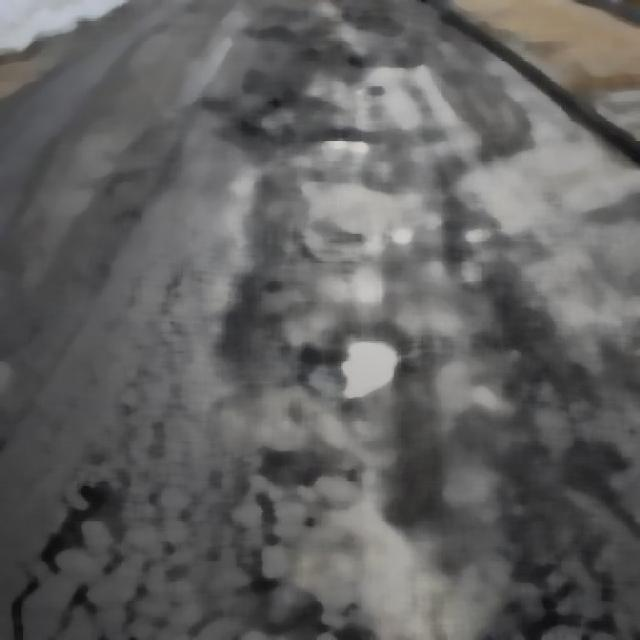Pothole: (323, 332, 419, 400)
